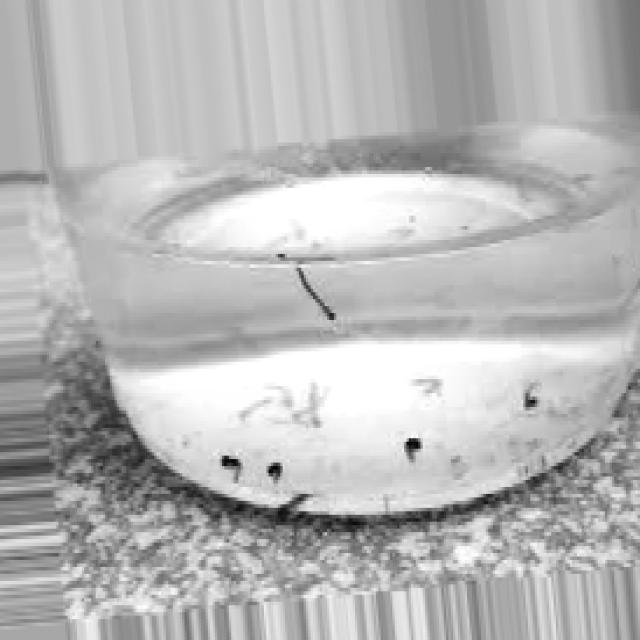larvas: (296, 266, 336, 321), (416, 372, 442, 401), (237, 396, 266, 422), (263, 383, 292, 408), (278, 492, 312, 512), (308, 380, 321, 431), (219, 457, 242, 480), (404, 435, 421, 464), (267, 460, 283, 487), (524, 383, 538, 410)
